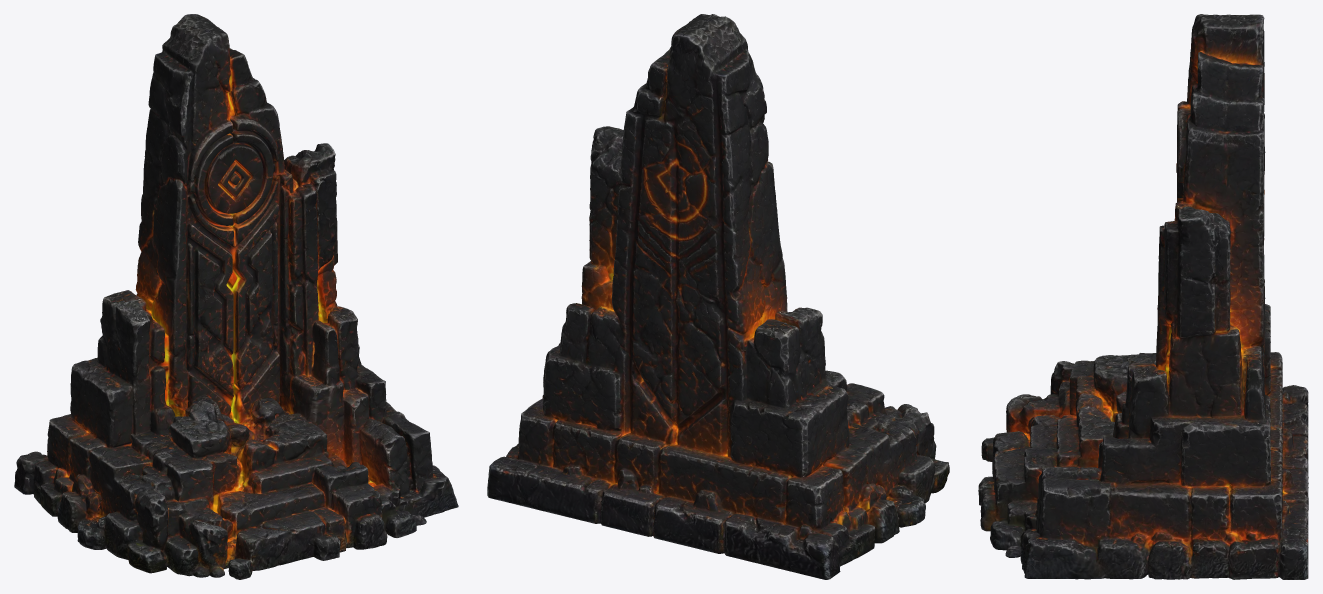
File: Infernal_Peak.glb
The picture shows the model from 3 angles, left to right: view 1: azimuth 30°, elevation 25°; view 2: azimuth 150°, elevation 25°; view 3: azimuth 270°, elevation 25°; orthographic projection. The views are drawn at different scales.
Visible parts, largest first — view 1: Infernal_Peak; view 2: Infernal_Peak; view 3: Infernal_Peak.
Part boxes in pixels (<box>): Infernal_Peak: <box>14,14,458,579</box>; Infernal_Peak: <box>487,14,949,579</box>; Infernal_Peak: <box>978,14,1308,579</box>.
Bounding box in the file's own units: 1.44 × 1.9 × 1.19.
1 material, 1 textured.
